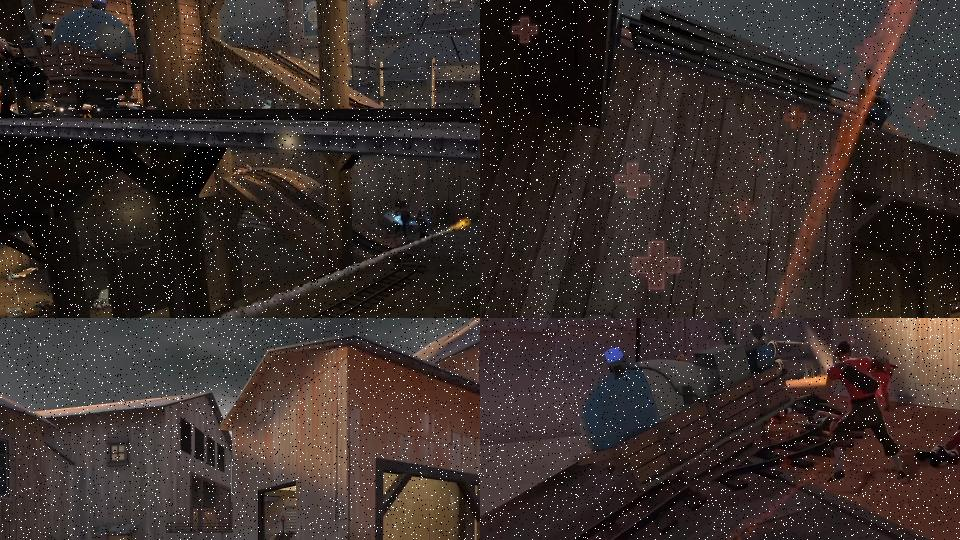Enemy: (823, 338, 914, 489), (0, 0, 56, 110), (915, 412, 960, 468), (867, 352, 899, 411), (414, 208, 432, 243), (385, 208, 409, 234), (397, 200, 414, 236), (92, 285, 114, 312), (7, 263, 38, 282)
